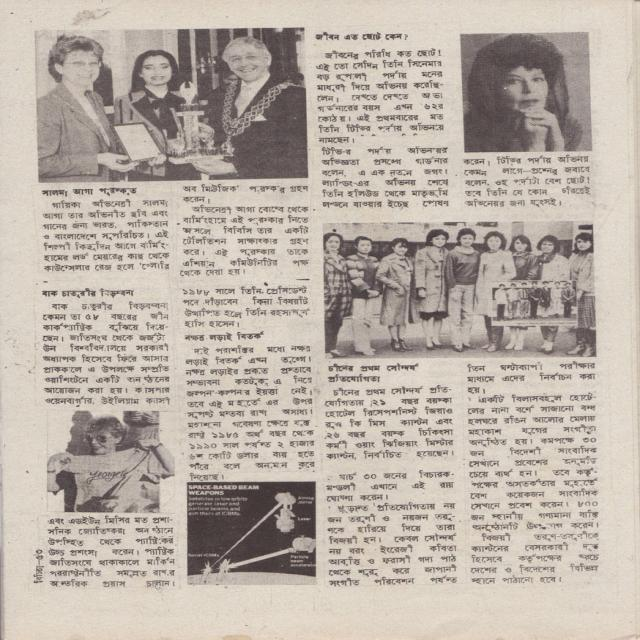image: (34, 26, 307, 183), (322, 221, 598, 359), (460, 31, 594, 153), (187, 481, 317, 586), (47, 410, 175, 514)
page number: (34, 548, 45, 561)
paragraph: (467, 392, 602, 532), (183, 342, 318, 481), (40, 300, 172, 407), (315, 47, 448, 144), (325, 501, 460, 590), (323, 383, 457, 461), (41, 197, 173, 274), (180, 205, 311, 277), (48, 516, 177, 589), (320, 145, 453, 209), (461, 154, 593, 211), (470, 531, 601, 584), (180, 285, 311, 328), (466, 361, 597, 395), (325, 470, 456, 503), (179, 182, 310, 204)
text: (32, 565, 45, 585)
title: (326, 362, 422, 385), (40, 186, 139, 199), (310, 30, 411, 42), (39, 287, 137, 298), (183, 331, 267, 343)
